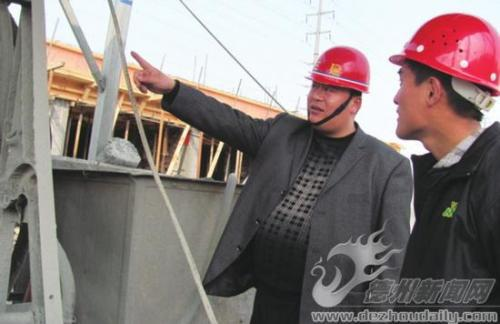helmet: (377, 0, 499, 158), (298, 30, 376, 141)
